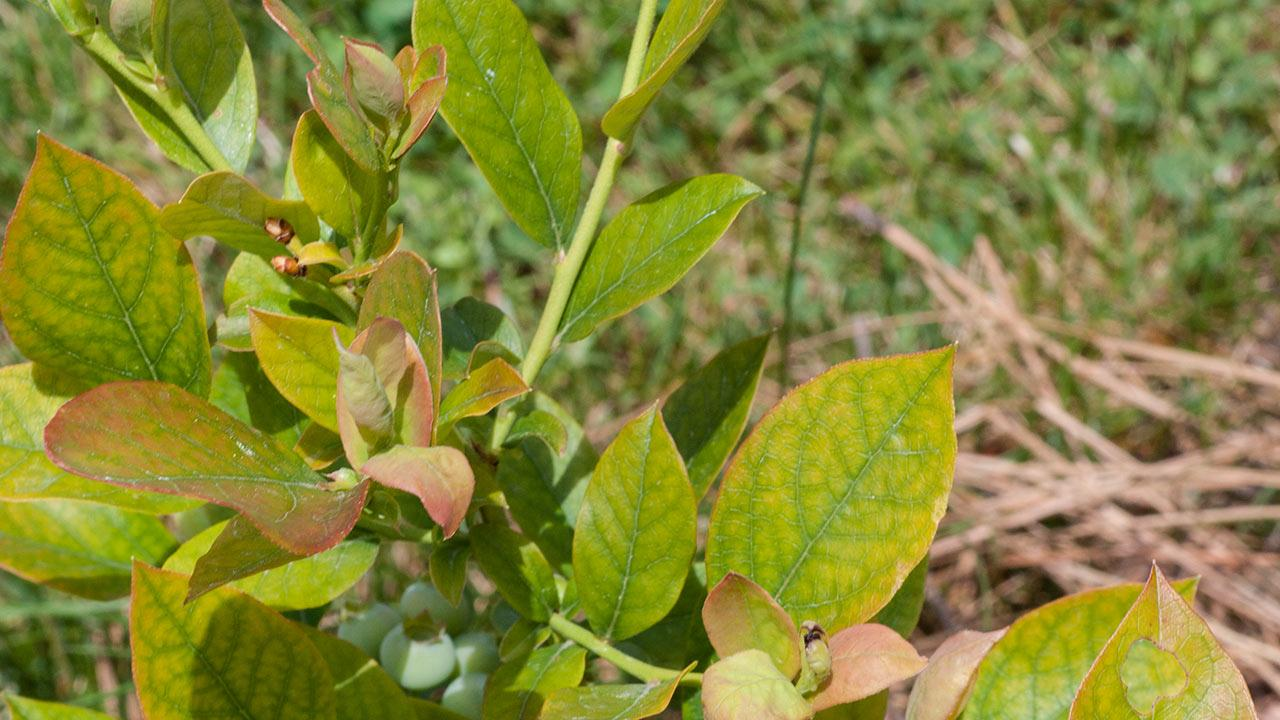Blueberry leaf: (708, 334, 982, 664), (25, 372, 392, 544), (3, 120, 233, 394), (403, 2, 591, 256), (553, 162, 782, 370), (553, 363, 699, 656), (116, 555, 339, 720)
